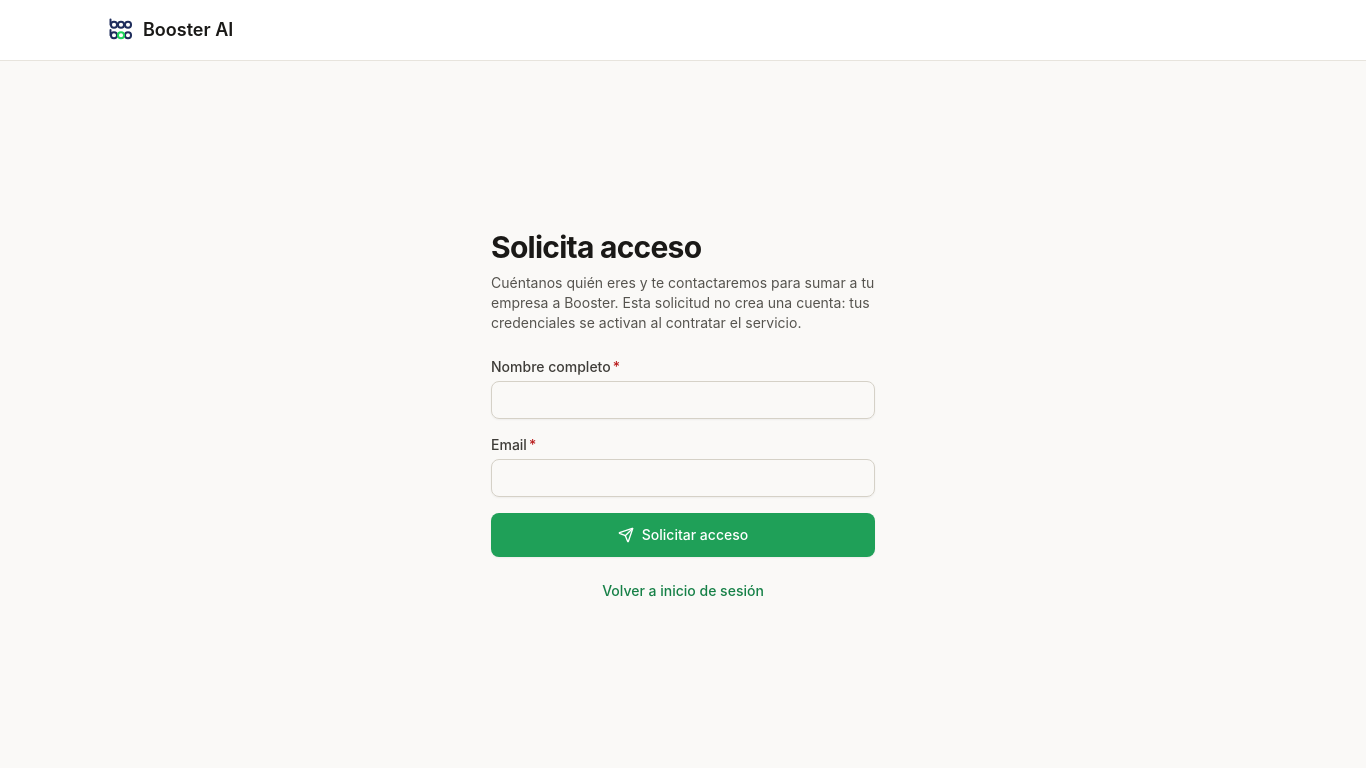
Test case: SolicitarAccesoRoute — manejo de errores por status/code › 429 → "Demasiados intentos, espera unos minutos"
This screenshot has width=1366, height=768.
In the field labelled "Nombre completo*": (683, 400) [491,380,875,418], type "Felipe Vicencio"
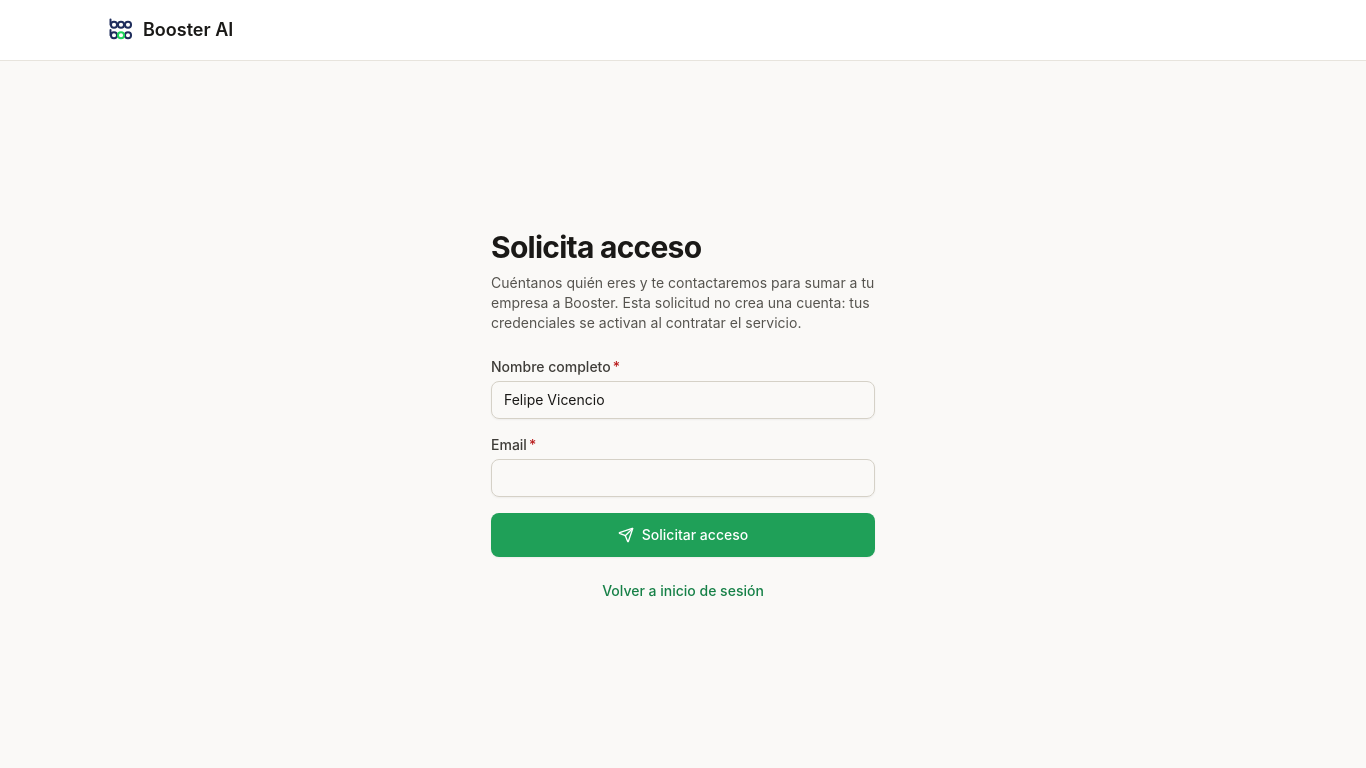
In the field labelled "Email*": (683, 478) [491,458,875,496], type "felipe@empresa.cl"
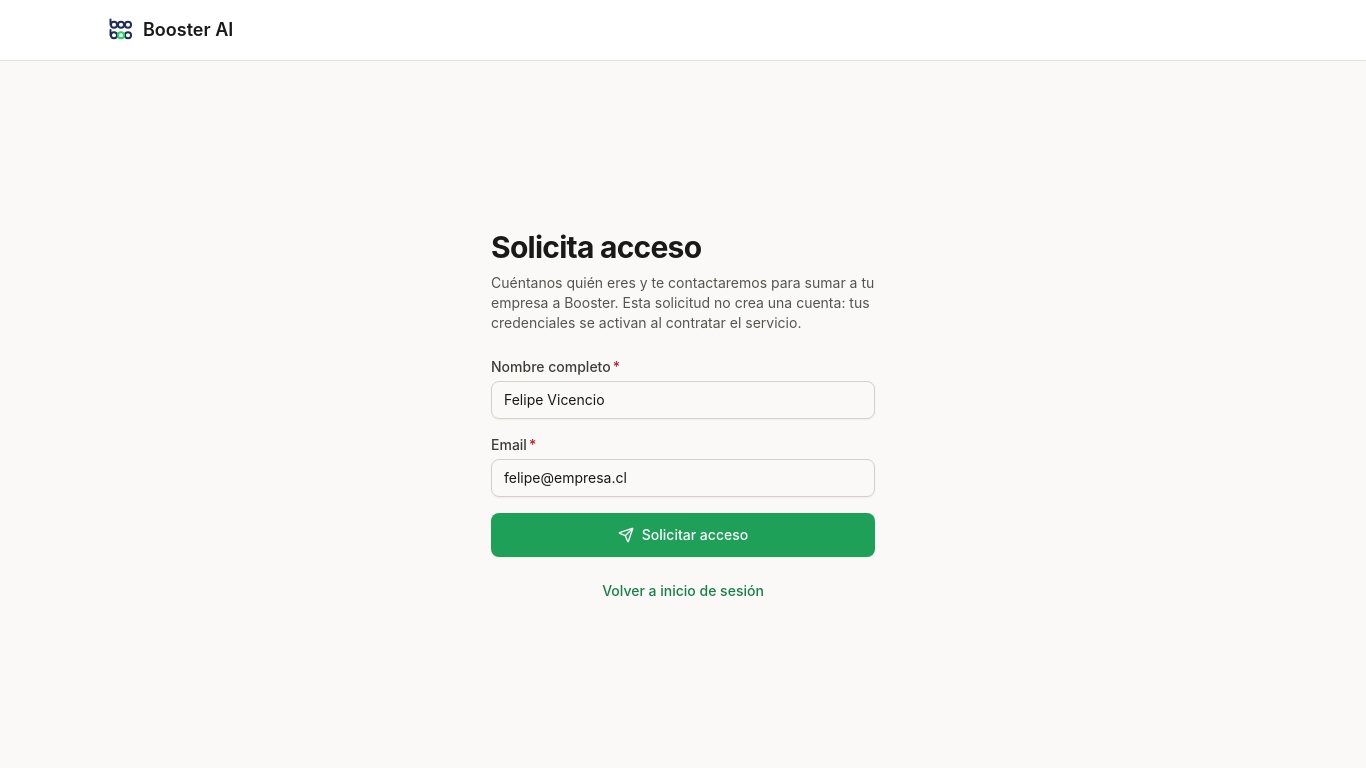
Click the button "Solicitar acceso": click(683, 534) [491,512,875,556]
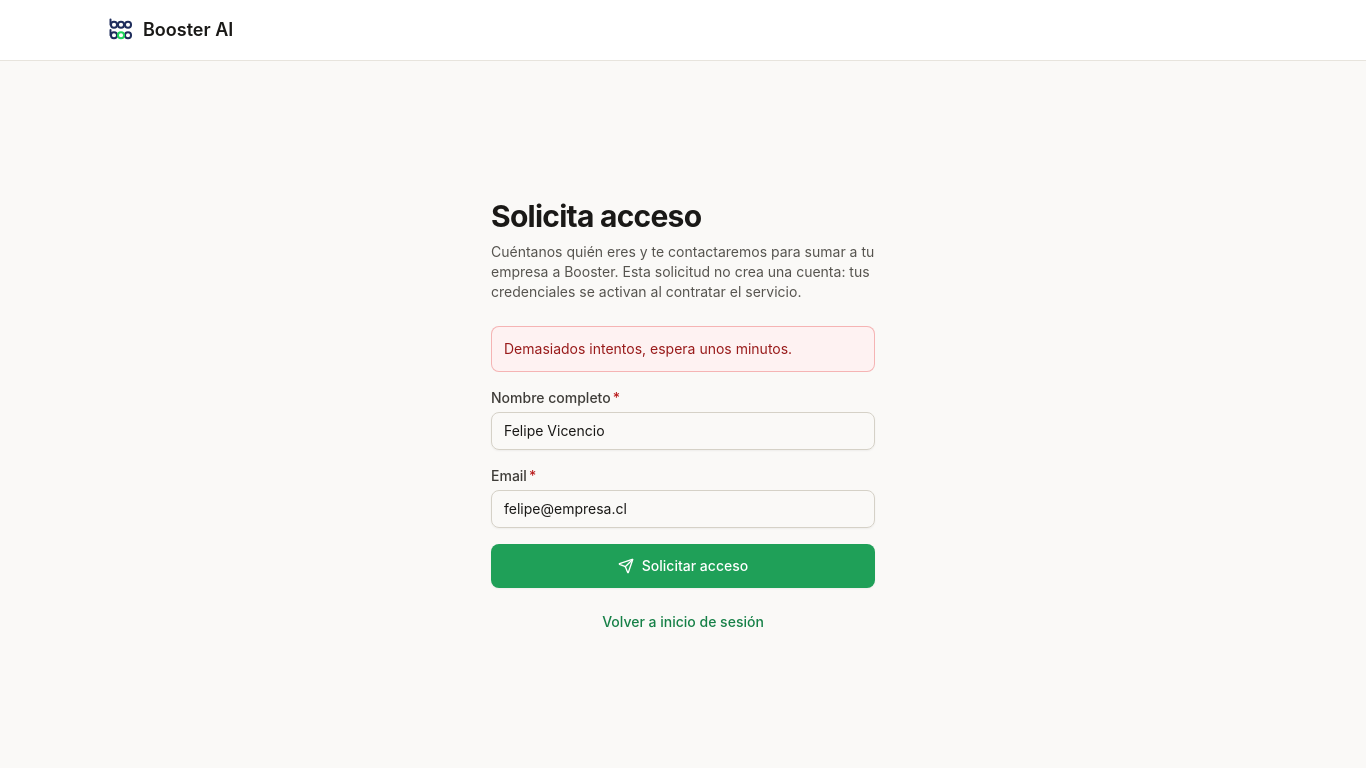
Now the text "Demasiados intentos, espera unos minutos." is shown, box [491,326,875,372]
